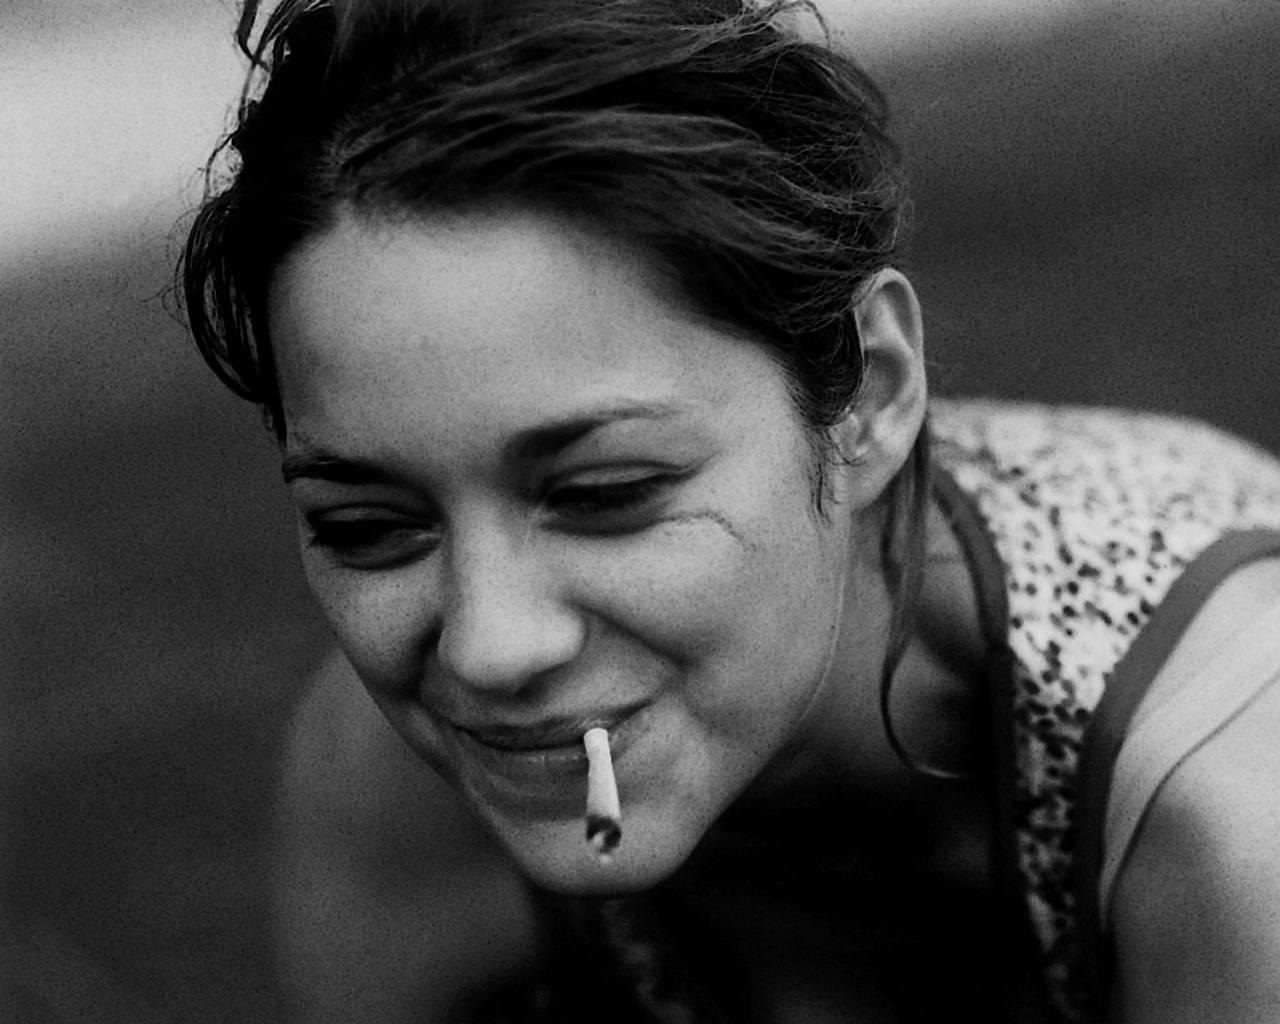cigarette: (573, 716, 631, 858)
